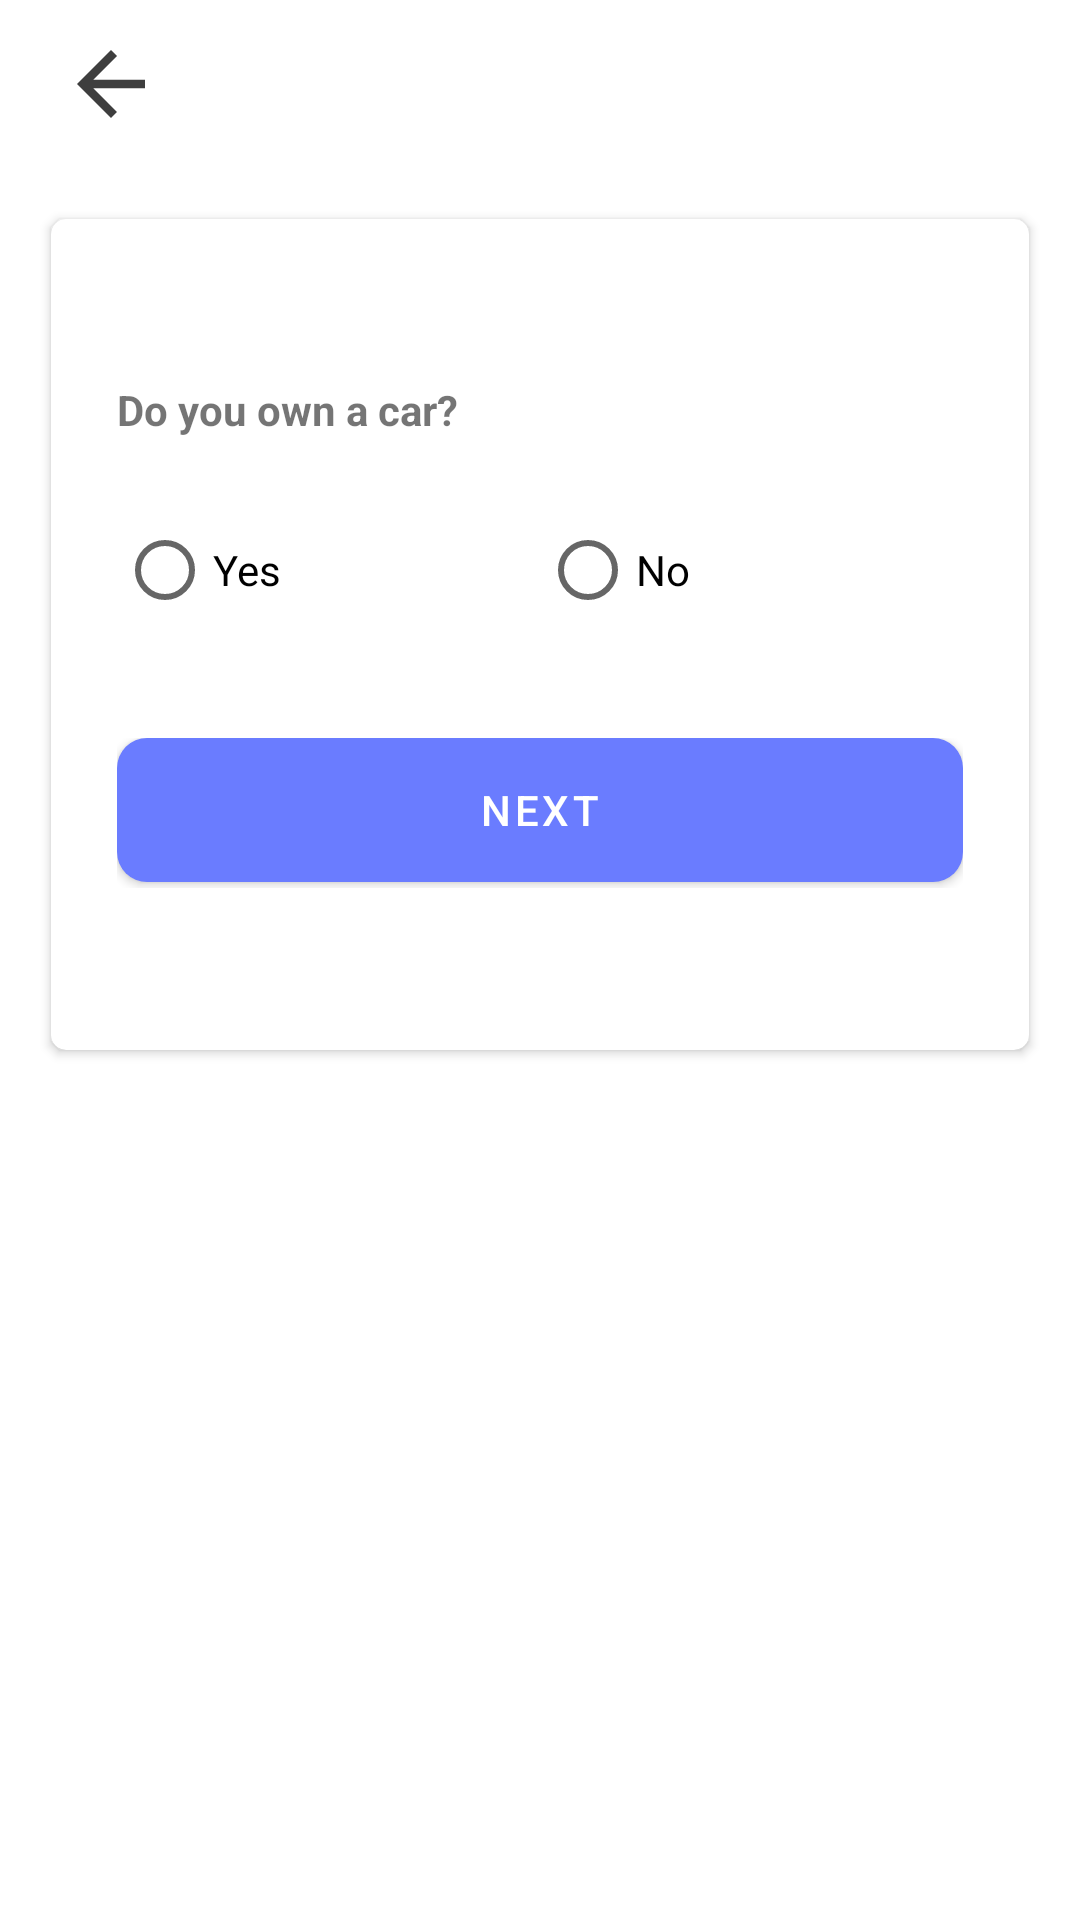

Icon click points for this 1080w x 1920h phone screenshot, format (x=x, y=y):
arrow back: (x=111, y=84)
